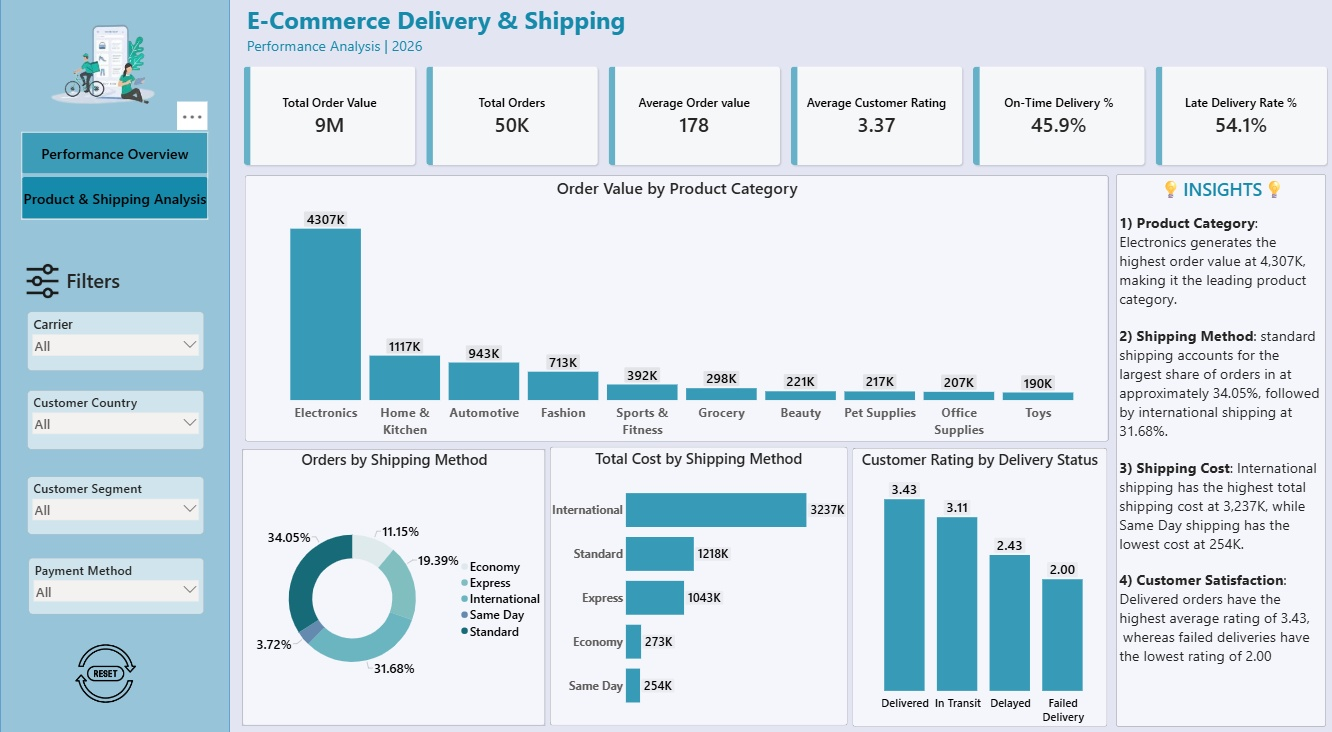

The page's visual inventory and layout, read from the dashboard file:
{"tool":"powerbi","page":{"name":"Product & Shipping Analysis","canvas":[4000,2200],"ordinal":1},"visuals":[{"type":"shape","box":[0,0,686.8,2200.2],"z":0},{"type":"shape","box":[3336.6,526.8,626.4,1650.9],"z":0,"group":"g1"},{"type":"image","box":[63.5,751,127,190.6],"z":0,"group":"g2"},{"type":"shape","box":[1645.3,1342.1,889.3,833],"z":0,"group":"g3"},{"type":"shape","box":[2548.2,1343.3,761.3,833],"z":0,"group":"g4"},{"type":"textbox","box":[164.4,799.6,242.9,89.7],"z":1000,"group":"g2"},{"type":"shape","box":[724.2,1347.1,904.3,825.5],"z":1000},{"type":"donutChart","title":"Orders by Shipping Method","fields":{"Y":["Count(E-commerce_Delivery_Shipping_Data_2026.order_id)"],"Category":["E-commerce_Delivery_Shipping_Data_2026.shipping_method"]},"box":[728.6,1348.9,900.5,822],"z":2000},{"type":"shape","box":[731.3,530.6,2578.2,794.3],"z":3000},{"type":"clusteredColumnChart","title":"Order Value by Product Category","fields":{"Category":["E-commerce_Delivery_Shipping_Data_2026.product_category"],"Y":["Sum(E-commerce_Delivery_Shipping_Data_2026.order_value_usd)"]},"box":[731.7,529.1,2581.9,794.3],"z":4000},{"type":"group","id":"g1","title":"Group 1","box":[3336.6,526.8,627.7,1651.5],"z":5000},{"type":"clusteredColumnChart","title":"Customer Rating by Delivery Status","fields":{"Category":["E-commerce_Delivery_Shipping_Data_2026.delivery_status"],"Y":["E-commerce_Delivery_Shipping_Data_2026.Average Customer Rating"]},"box":[2547.8,1345.8,761.3,829.3],"z":5000,"group":"g4"},{"type":"cardVisual","fields":{"Data":["E-commerce_Delivery_Shipping_Data_2026.Total Order Value","E-commerce_Delivery_Shipping_Data_2026.Total Orders","E-commerce_Delivery_Shipping_Data_2026.Average Order value","E-commerce_Delivery_Shipping_Data_2026.Average Customer Rating","E-commerce_Delivery_Shipping_Data_2026.On-Time Delivery %%","E-commerce_Delivery_Shipping_Data_2026.Late Delivery Rate %"]},"box":[686.1,174.6,3313.9,353.1],"z":6000},{"type":"barChart","title":"Total Cost by Shipping Method","fields":{"Category":["E-commerce_Delivery_Shipping_Data_2026.shipping_method"],"Y":["Sum(E-commerce_Delivery_Shipping_Data_2026.shipping_cost_usd)"]},"box":[1645.3,1345.6,889.3,821.8],"z":6000,"group":"g3"},{"type":"textbox","box":[732.3,11.2,1158.3,183.1],"z":7000},{"type":"image","box":[37.4,0,556.7,377.4],"z":8000},{"type":"textbox","box":[3338,527.4,626.4,1650.9],"z":9000,"group":"g1"},{"type":"slicer","fields":{"Values":["E-commerce_Delivery_Shipping_Data_2026.customer_country"]},"box":[82.2,1173,526.8,175.6],"z":9000},{"type":"slicer","fields":{"Values":["E-commerce_Delivery_Shipping_Data_2026.customer_segment"]},"box":[82.2,1431.1,526.8,171.9],"z":10000},{"type":"slicer","fields":{"Values":["E-commerce_Delivery_Shipping_Data_2026.payment_method"]},"box":[85.9,1673.9,523.1,168.1],"z":11000},{"type":"pageNavigator","box":[63.5,399.8,560.5,261.6],"z":12000},{"type":"group","id":"g2","title":"Group 2","box":[63.5,751,343.8,190.6],"z":13000},{"type":"image","box":[224,1931,183,175],"z":14000},{"type":"slicer","fields":{"Values":["E-commerce_Delivery_Shipping_Data_2026.carrier"]},"box":[80.9,939.5,526.8,175.6],"z":15000},{"type":"group","id":"g3","title":"Group 3","box":[1645.3,1342.1,889.3,833],"z":16000},{"type":"group","id":"g4","title":"Group 4","box":[2547.8,1343.3,761.7,833],"z":17000}]}

Visuals, with their boxes on the page's 4000x2200 design canvas (x1, y1, x2, y2). These are canvas units, not pixel positions in the 1332x732 screenshot, which may show the page scaled, cropped or inside an application window:
shape: crop(0, 0, 687, 2200)
shape: crop(3337, 527, 3963, 2178)
image: crop(64, 751, 190, 942)
shape: crop(1645, 1342, 2535, 2175)
shape: crop(2548, 1343, 3310, 2176)
textbox: crop(164, 800, 407, 889)
shape: crop(724, 1347, 1628, 2173)
"Orders by Shipping Method" donutChart: crop(729, 1349, 1629, 2171)
shape: crop(731, 531, 3310, 1325)
"Order Value by Product Category" clusteredColumnChart: crop(732, 529, 3314, 1323)
"Group 1" group: crop(3337, 527, 3964, 2178)
"Customer Rating by Delivery Status" clusteredColumnChart: crop(2548, 1346, 3309, 2175)
cardVisual - E-commerce_Delivery_Shipping_Data_2026.Total Order Value x E-commerce_Delivery_Shipping_Data_2026.Total Orders: crop(686, 175, 4000, 528)
"Total Cost by Shipping Method" barChart: crop(1645, 1346, 2535, 2167)
textbox: crop(732, 11, 1891, 194)
image: crop(37, 0, 594, 377)
textbox: crop(3338, 527, 3964, 2178)
slicer - E-commerce_Delivery_Shipping_Data_2026.customer_country: crop(82, 1173, 609, 1349)
slicer - E-commerce_Delivery_Shipping_Data_2026.customer_segment: crop(82, 1431, 609, 1603)
slicer - E-commerce_Delivery_Shipping_Data_2026.payment_method: crop(86, 1674, 609, 1842)
pageNavigator: crop(64, 400, 624, 661)
"Group 2" group: crop(64, 751, 407, 942)
image: crop(224, 1931, 407, 2106)
slicer - E-commerce_Delivery_Shipping_Data_2026.carrier: crop(81, 940, 608, 1115)
"Group 3" group: crop(1645, 1342, 2535, 2175)
"Group 4" group: crop(2548, 1343, 3310, 2176)
